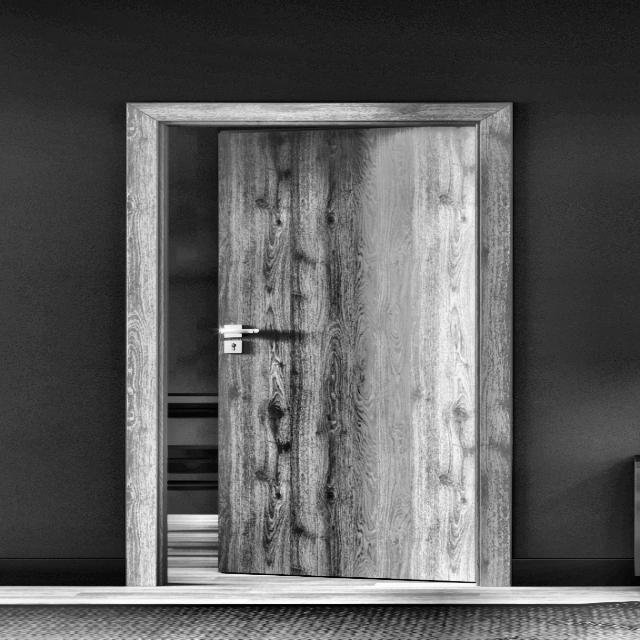door: (105, 88, 600, 606)
